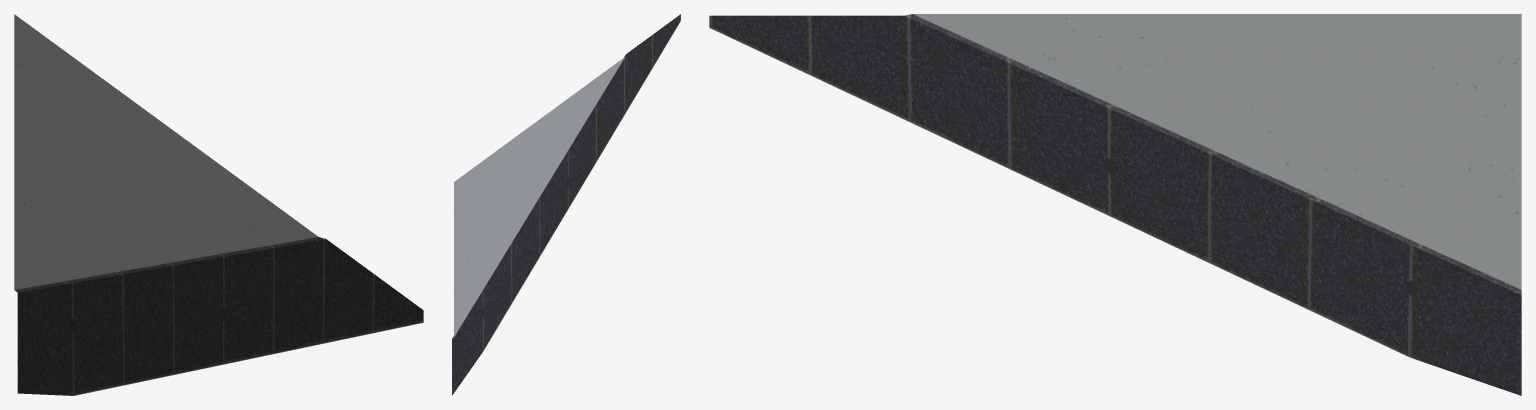
File: wall_stair_b.fbx
3 views of the same model, side by side, from view 1: azimuth 30°, elevation 25°; view 2: azimuth 150°, elevation 25°; view 3: azimuth 270°, elevation 25° (orthographic). The views are drawn at different scales.
Visible parts, largest first — view 1: wall_stair_b; view 2: wall_stair_b; view 3: wall_stair_b.
Boxes of the visible parts, x1,y1,x2,y2 form: wall_stair_b: (14,14,423,395); wall_stair_b: (452,14,680,395); wall_stair_b: (709,14,1521,395).
Bounding box in the file's own units: 2 × 207 × 400.
1 material, 1 textured.
